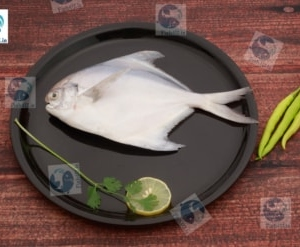Pomfret: (42, 48, 259, 157)
